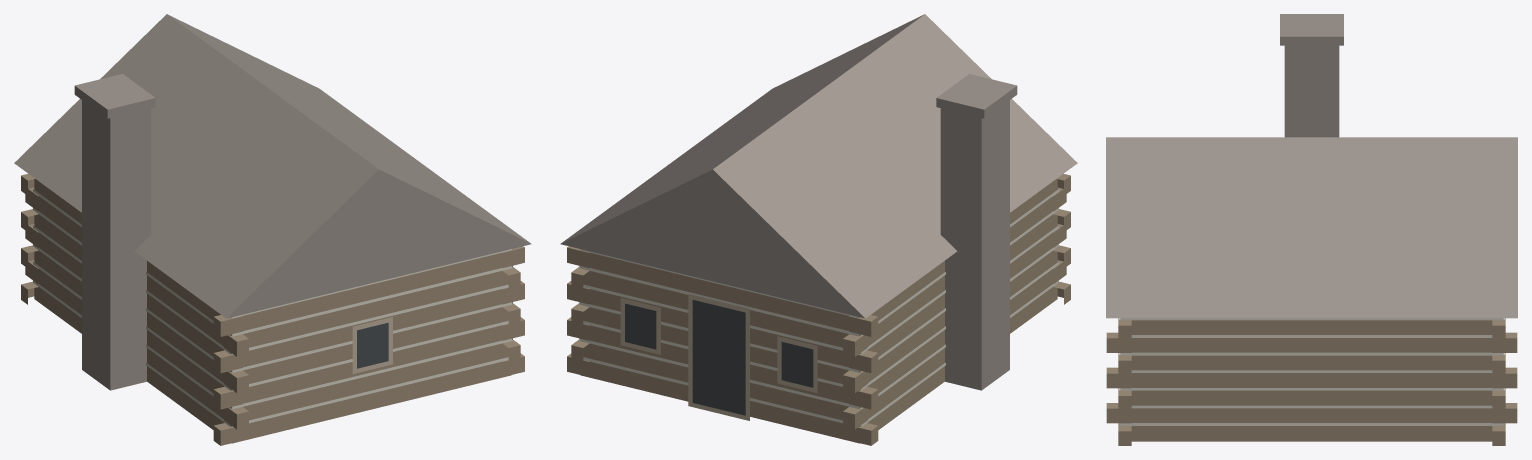
File: recon_1835_north_d1_023__inferred_1835.glb
3 renders of one model, left to right at view 1: azimuth 30°, elevation 25°; view 2: azimuth 150°, elevation 25°; view 3: azimuth 270°, elevation 25°, orthographic. The views are drawn at different scales.
Parts seen in each view (by area): view 1: recon_1835_north_d1_023__inferred_1835; view 2: recon_1835_north_d1_023__inferred_1835; view 3: recon_1835_north_d1_023__inferred_1835.
Boxes of the visible parts, left/top/right/bottom form: recon_1835_north_d1_023__inferred_1835: left=14, top=14, right=531, bottom=445; recon_1835_north_d1_023__inferred_1835: left=560, top=14, right=1077, bottom=445; recon_1835_north_d1_023__inferred_1835: left=1106, top=14, right=1517, bottom=445.
Bounding box in the file's own units: 6.56 × 5.38 × 7.21.
